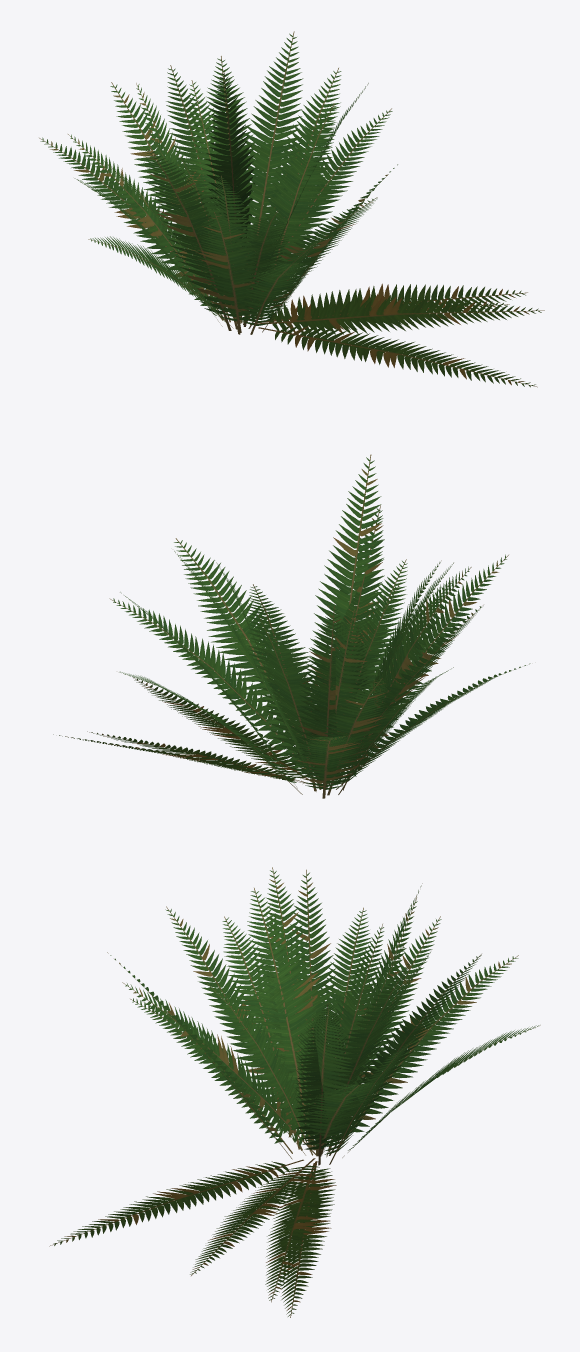
The model's file is sword_fern.glb.
The picture shows the model from 3 angles, top to bottom: view 1: azimuth 30°, elevation 25°; view 2: azimuth 150°, elevation 25°; view 3: azimuth 270°, elevation 25°; orthographic projection. The views are drawn at different scales.
Parts seen in each view (by area): view 1: sword_fern_a_lod0; view 2: sword_fern_a_lod0; view 3: sword_fern_a_lod0.
Part boxes in pixels (<box>): sword_fern_a_lod0: <box>39,31,544,387</box>; sword_fern_a_lod0: <box>53,454,530,798</box>; sword_fern_a_lod0: <box>49,867,540,1317</box>.
Size of what is drawn, in the model's own units: 1.22 by 0.7092 by 1.2.
1 material, 1 textured.
